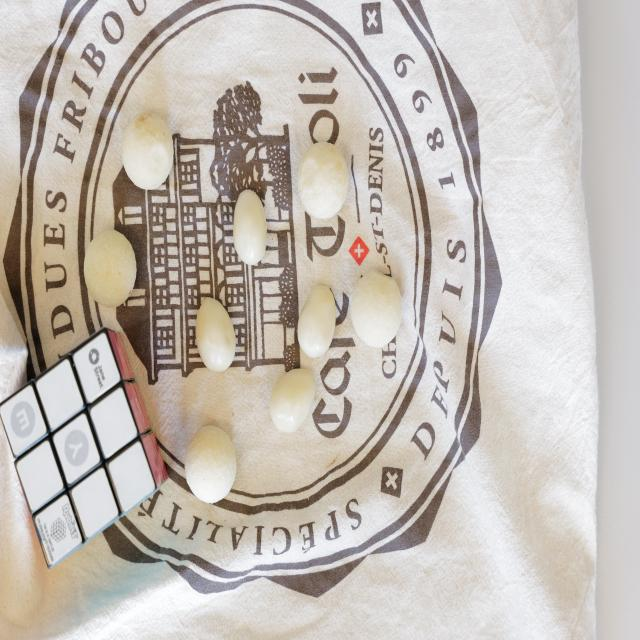Comtesse: (83, 229, 137, 309), (349, 270, 402, 349), (186, 424, 238, 503), (122, 110, 174, 187), (298, 141, 347, 217)
Jelly_White: (195, 294, 237, 373), (269, 367, 318, 432), (298, 285, 335, 357), (235, 189, 267, 265)
